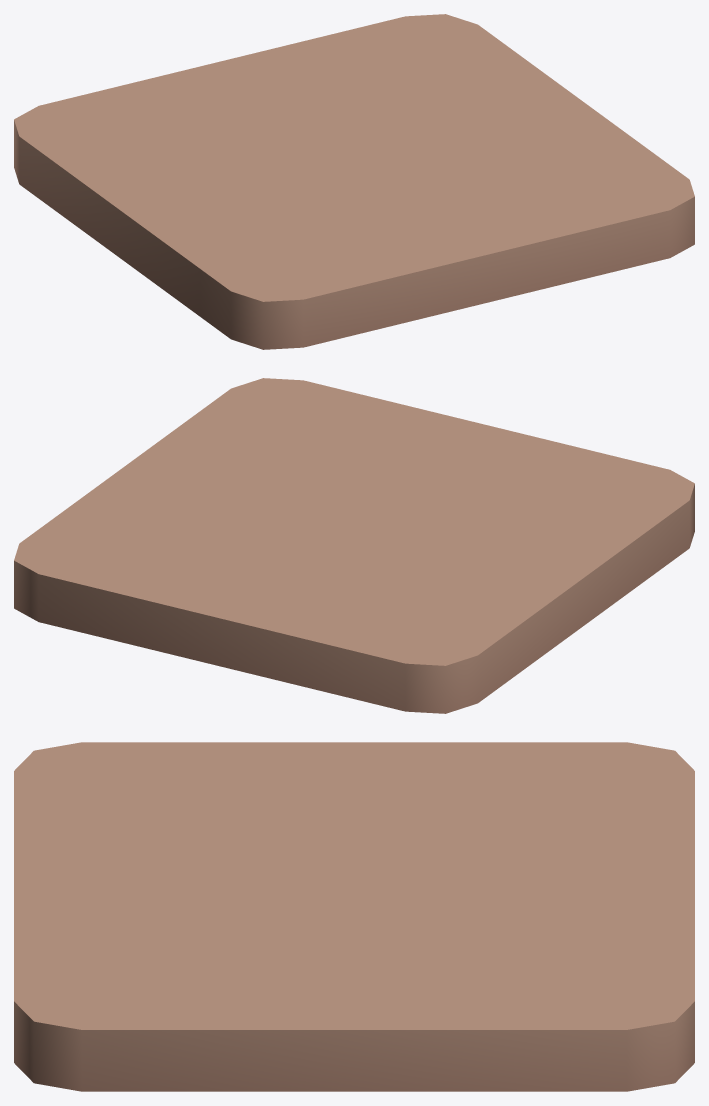
File: surface-rounded.glb
3 views of the same model, one above another, from view 1: azimuth 30°, elevation 25°; view 2: azimuth 150°, elevation 25°; view 3: azimuth 270°, elevation 25° (orthographic). The views are drawn at different scales.
Parts seen in each view (by area): view 1: surface-rounded; view 2: surface-rounded; view 3: surface-rounded.
Part boxes in pixels (left/top/right/bottom): surface-rounded: left=14, top=14, right=694, bottom=349; surface-rounded: left=14, top=378, right=694, bottom=713; surface-rounded: left=14, top=742, right=694, bottom=1091.
Size of the model in its own units: 1 by 0.1 by 1.
